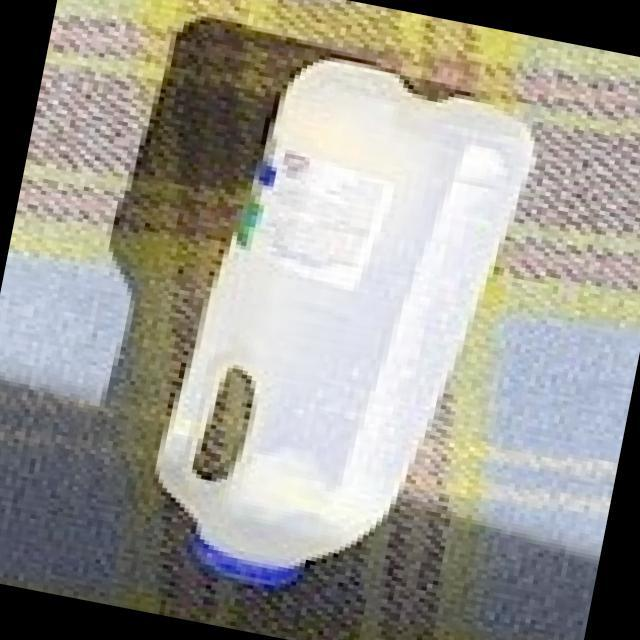HDPE Plastic: (152, 54, 538, 586)
